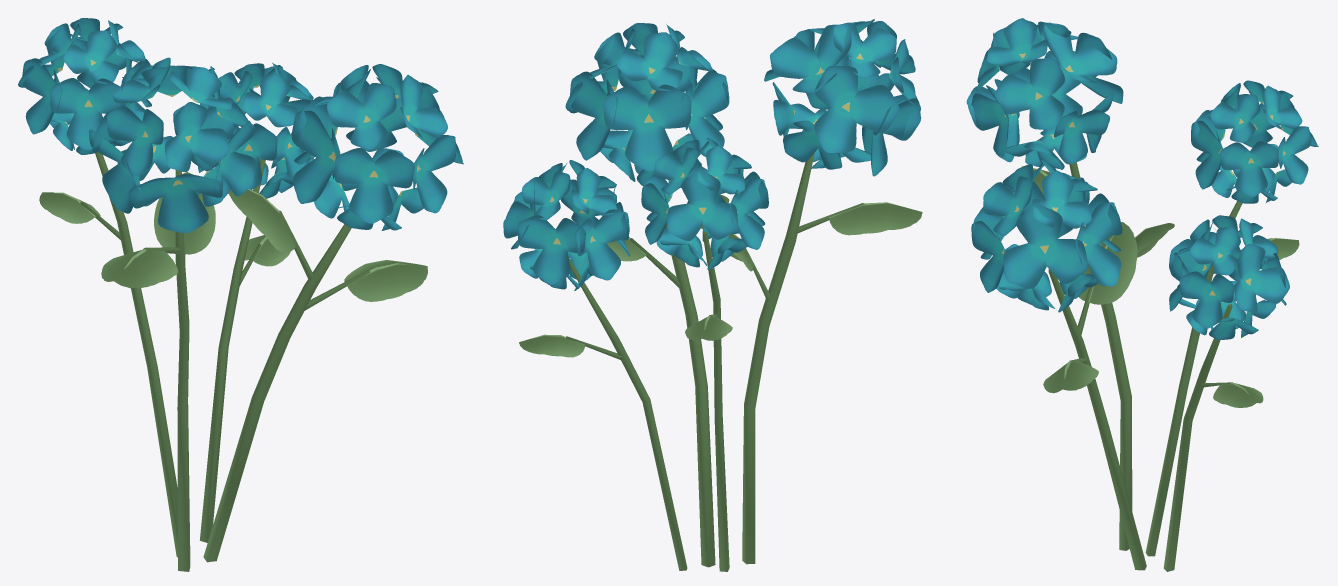
Rendered from Flower_1_Clump.glb.
3 views of the same model, side by side, from view 1: azimuth 30°, elevation 25°; view 2: azimuth 150°, elevation 25°; view 3: azimuth 270°, elevation 25° (orthographic). The views are drawn at different scales.
Parts seen in each view (by area): view 1: Flower_1_Clump; view 2: Flower_1_Clump; view 3: Flower_1_Clump.
Part boxes in pixels (left/top/right/bottom): Flower_1_Clump: left=18, top=18, right=463, bottom=571; Flower_1_Clump: left=503, top=19, right=922, bottom=571; Flower_1_Clump: left=966, top=18, right=1318, bottom=571.
Bounding box in the file's own units: 0.4711 × 0.6713 × 0.4352.
Materials: 1 (1 with a texture image).
